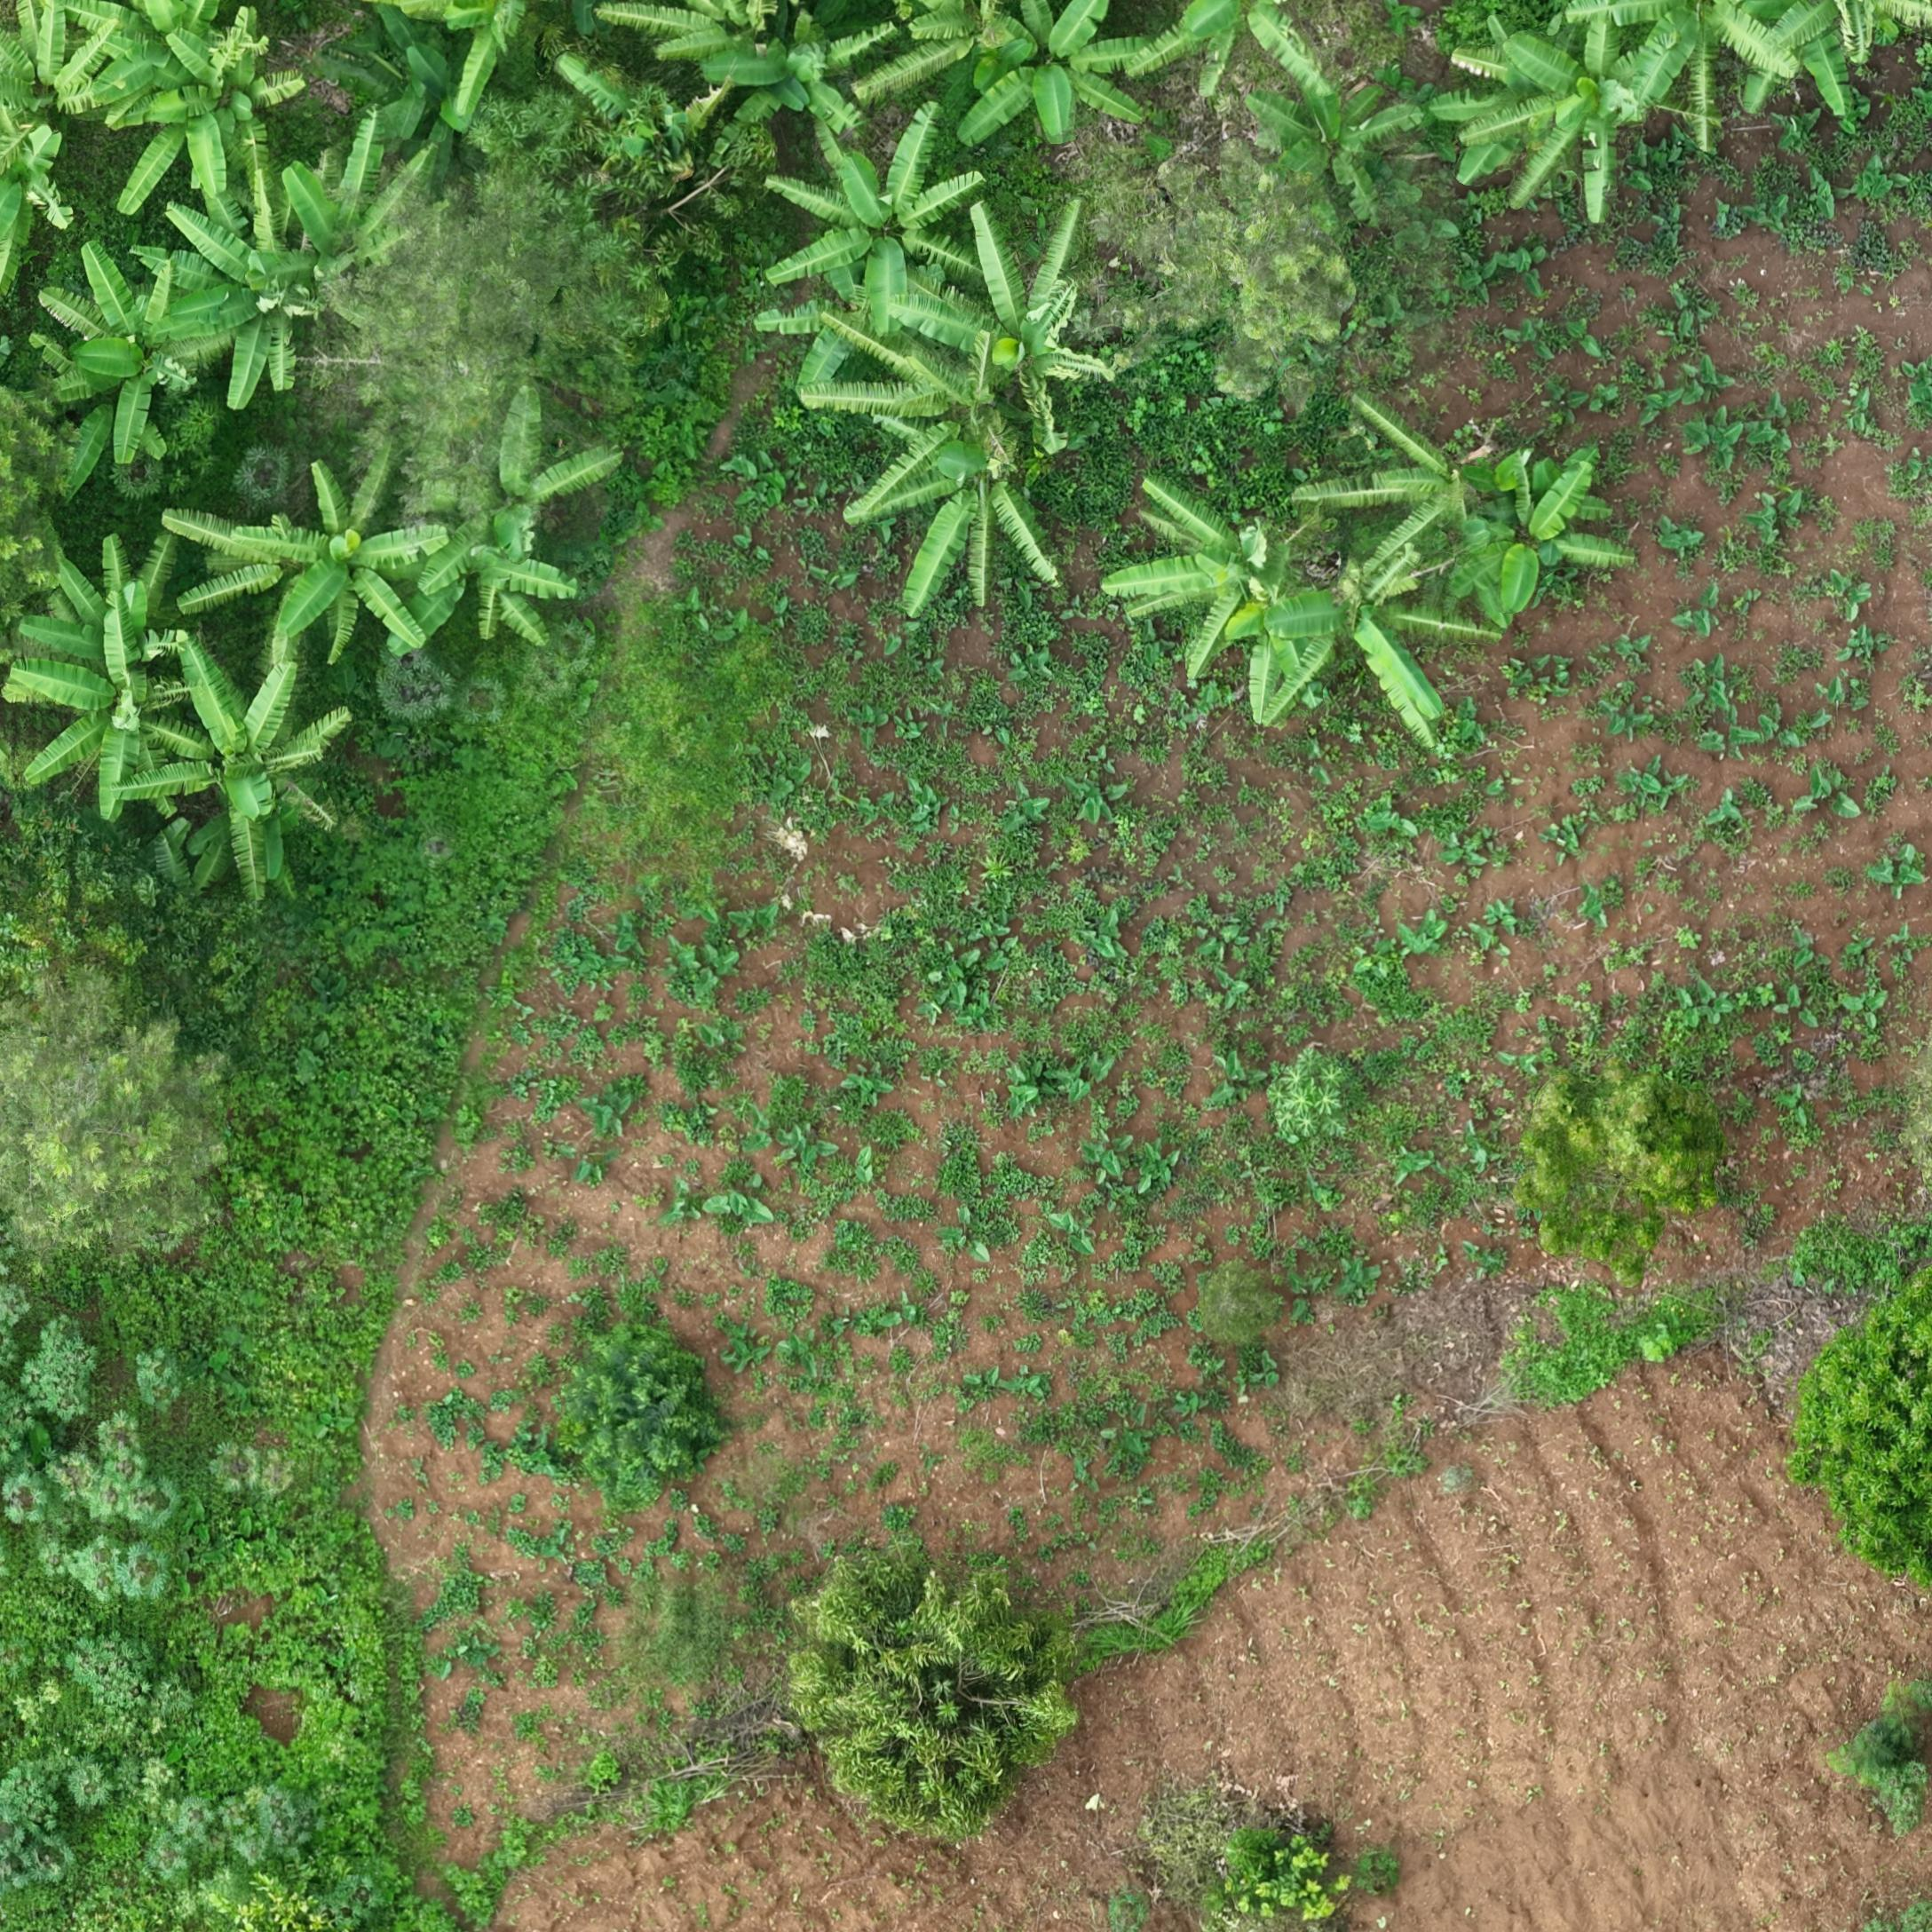Banana: (163, 478, 478, 732), (1141, 478, 1380, 764), (23, 235, 248, 525), (1481, 9, 1752, 237), (7, 543, 200, 860), (823, 310, 1092, 520), (858, 430, 1120, 637), (1302, 557, 1516, 798), (1336, 384, 1568, 596), (170, 168, 334, 425), (1162, 2, 1403, 152), (324, 7, 517, 168), (34, 2, 235, 145), (564, 42, 750, 189), (612, 2, 810, 122), (724, 25, 892, 138), (0, 5, 106, 159)
